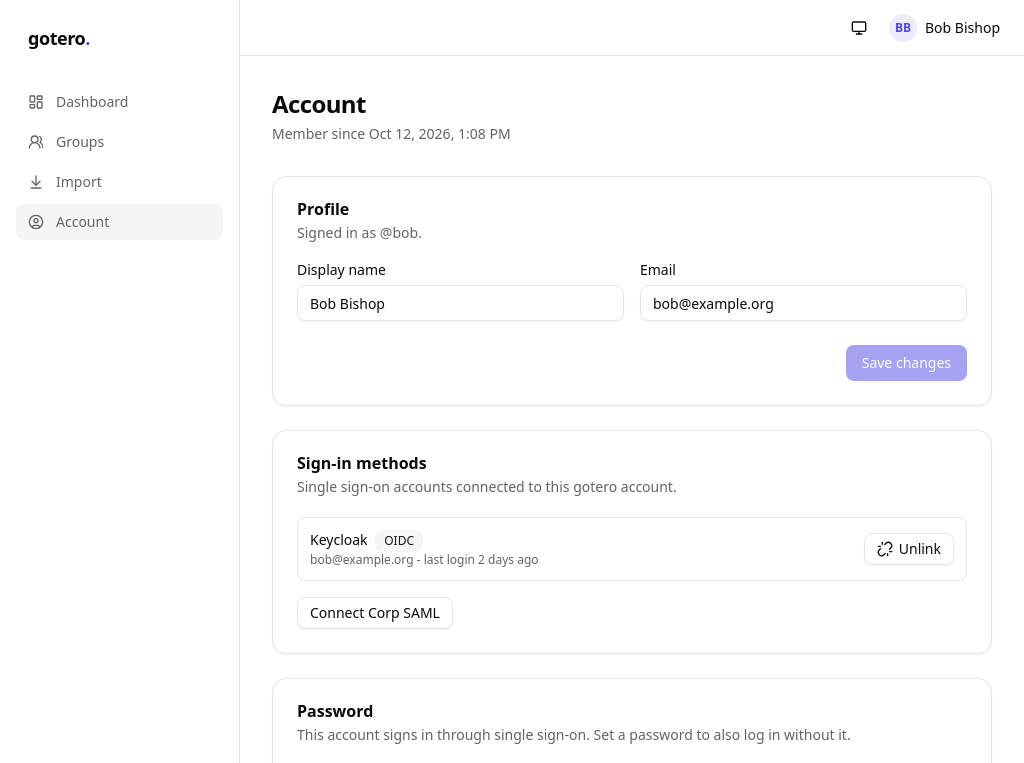
Test: account sign-in methods › surfaces the server message when it is the last way to sign in
Click the button "Unlink" at (909, 549), box [864,533,954,565]
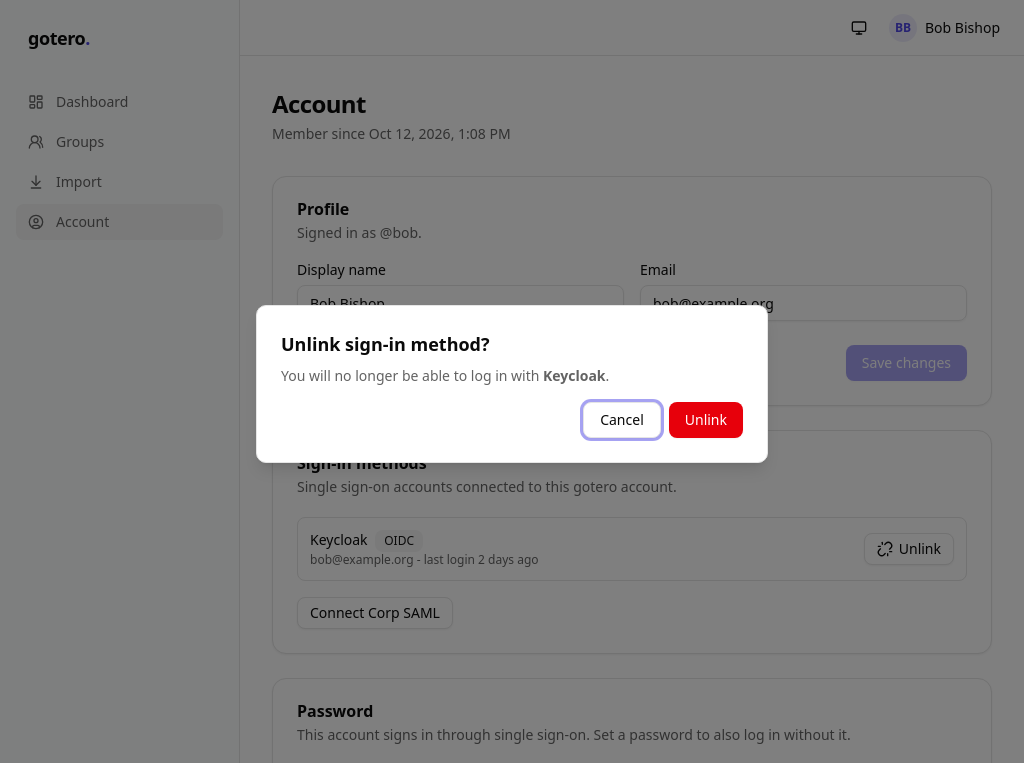
Click the button "Unlink" at (706, 420), box [669,402,743,438]
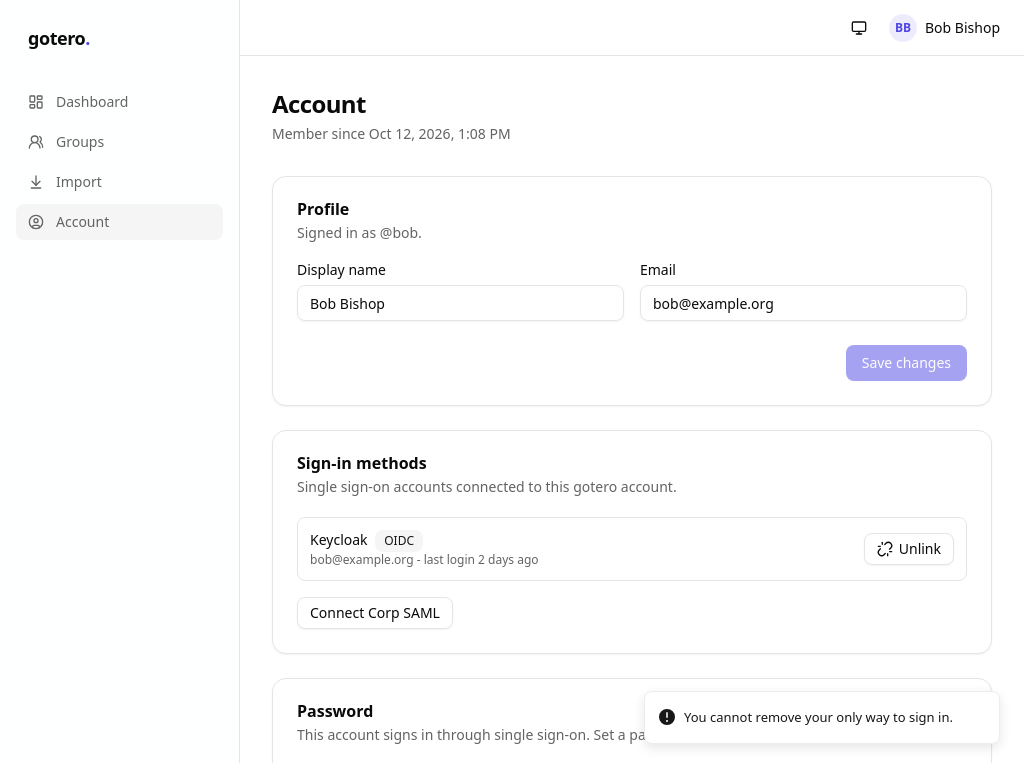
Result: the text "You cannot remove your only way to sign in." is shown at [684,708,953,727]
